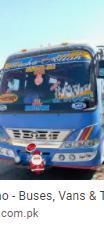bus: (0, 43, 104, 172)
